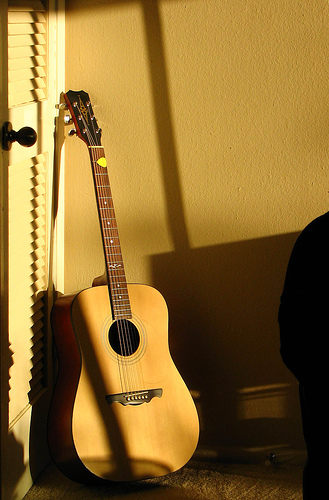guitar: (59, 90, 200, 483)
